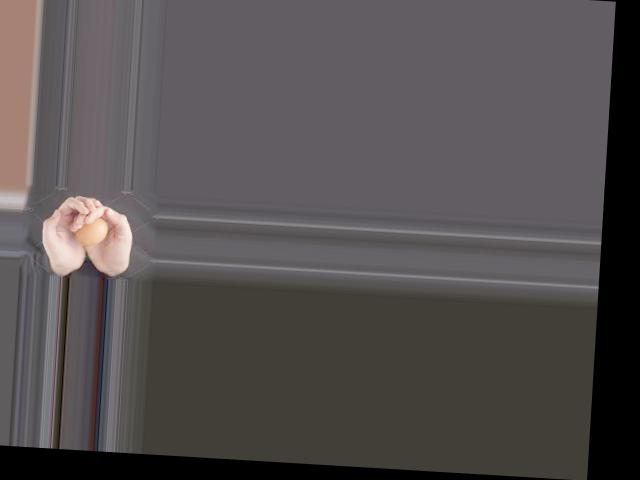egg: (72, 217, 108, 247)
